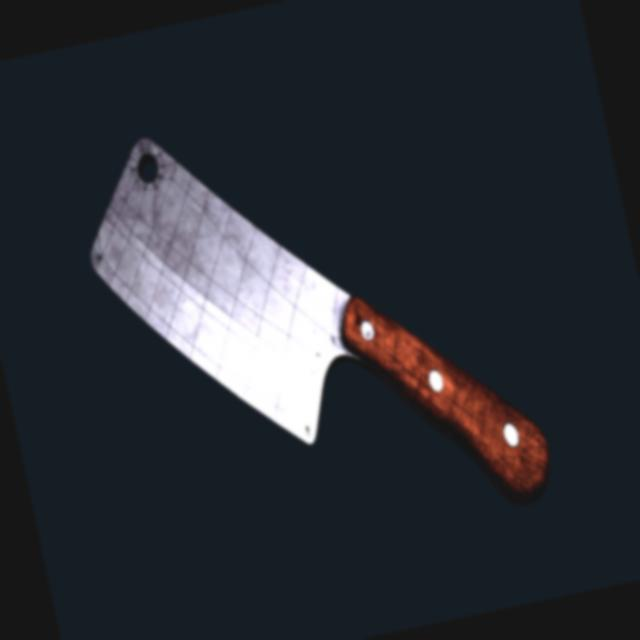cleaver: (68, 70, 559, 584)
